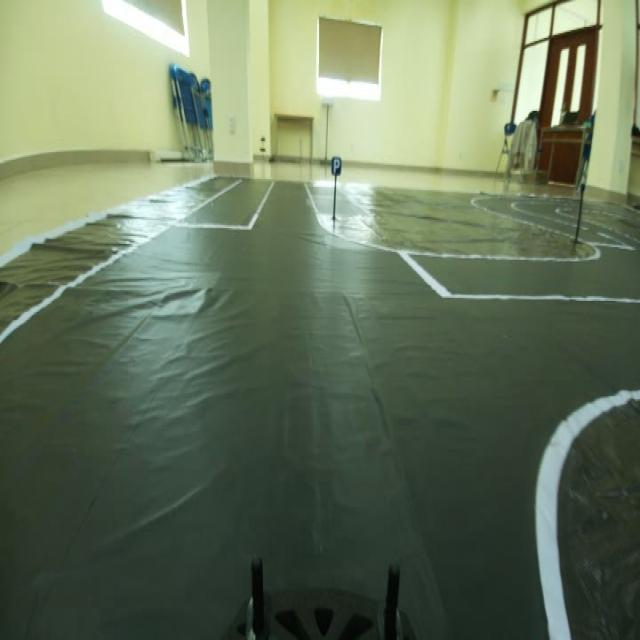parking: (327, 150, 342, 183)
